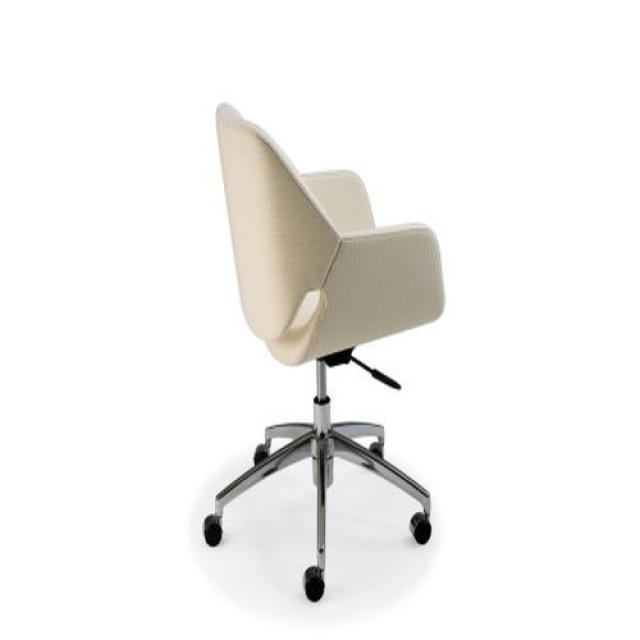swivelchair: (200, 104, 445, 604)
